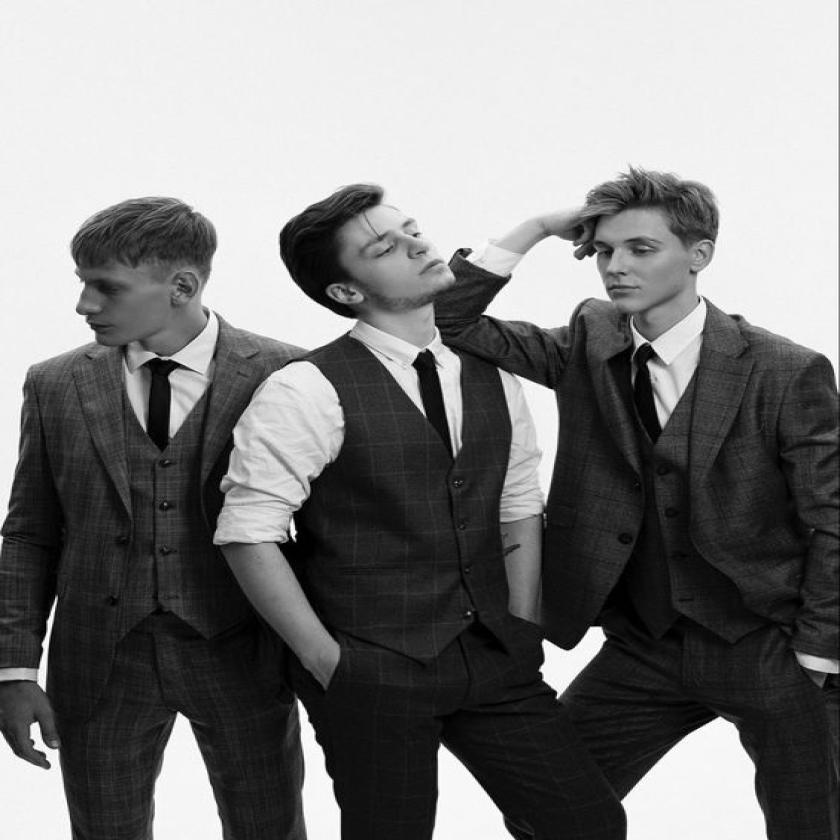Sin_casco: (276, 178, 463, 318), (61, 192, 223, 352), (572, 168, 727, 319)
